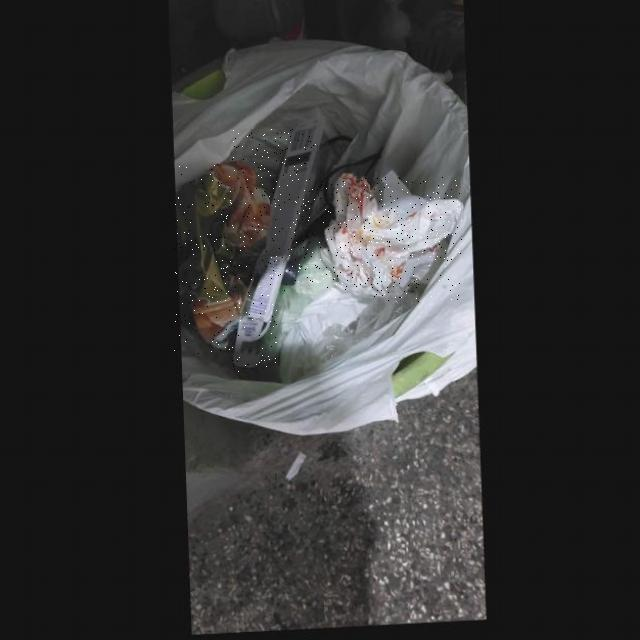paper: (231, 130, 318, 372), (174, 165, 270, 354), (319, 177, 462, 302), (277, 291, 365, 387)
